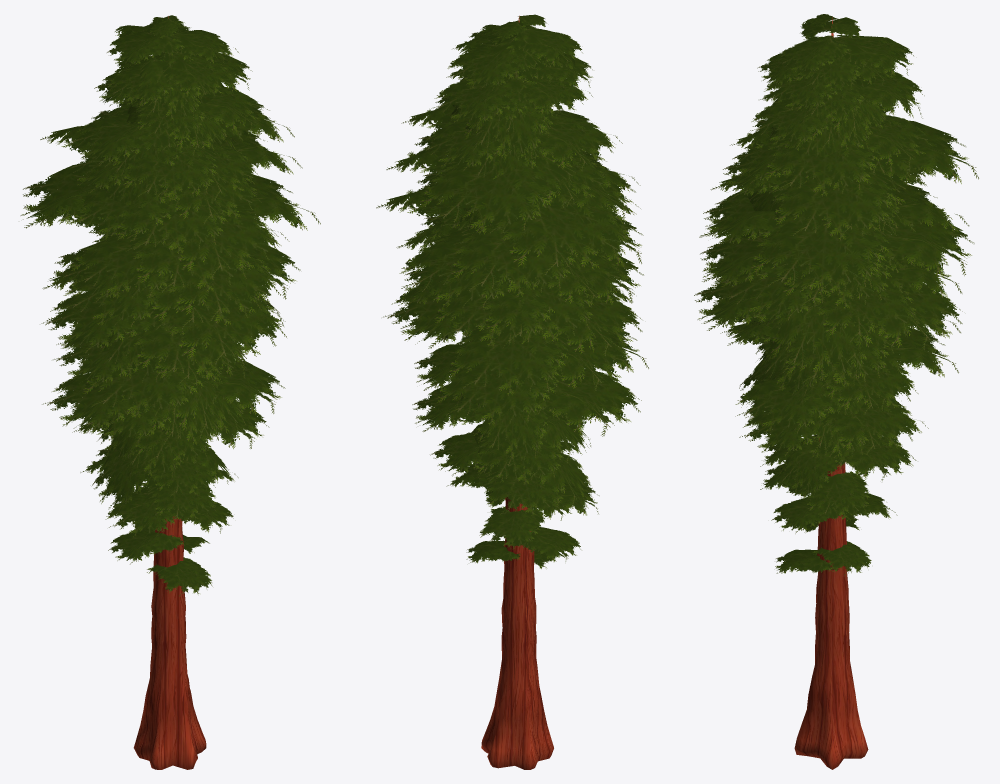
The model's file is sequoia_g1.gltf.
3 renders of one model, left to right at view 1: azimuth 30°, elevation 25°; view 2: azimuth 150°, elevation 25°; view 3: azimuth 270°, elevation 25°, orthographic.
Visible parts, largest first — view 1: sequoia_g1; view 2: sequoia_g1; view 3: sequoia_g1.
Boxes of the visible parts, <box> form: sequoia_g1: <box>20,15,320,769</box>; sequoia_g1: <box>376,14,648,769</box>; sequoia_g1: <box>694,14,978,769</box>.
Bounding box in the file's own units: 10.06 × 26 × 9.59.
Materials: 2 (2 with a texture image).
